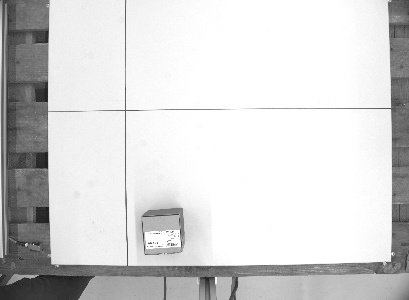b7: (138, 205, 188, 257)
